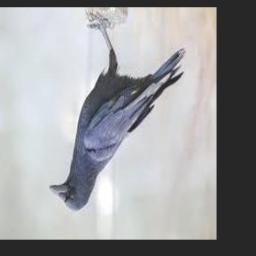Crow: (50, 12, 186, 212)
